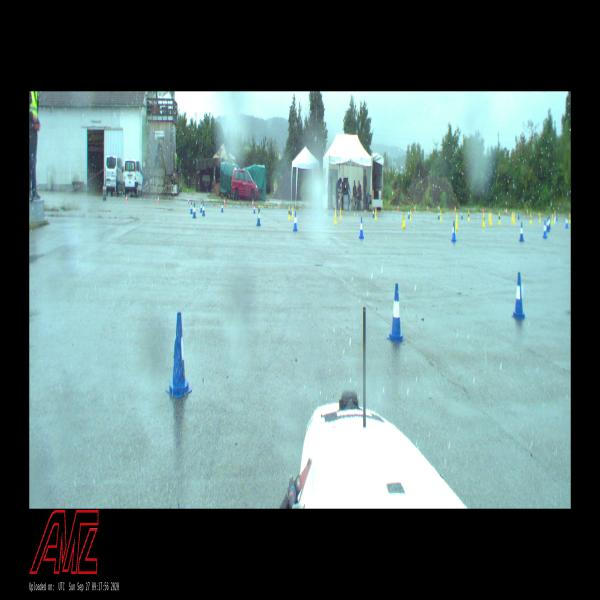blue_cone: (166, 311, 192, 399), (387, 283, 405, 344), (511, 272, 526, 320), (518, 222, 524, 242), (542, 220, 548, 239), (359, 216, 364, 238), (293, 211, 298, 232), (256, 208, 261, 226), (452, 220, 456, 242), (192, 202, 196, 219), (546, 216, 550, 232), (565, 214, 569, 229), (202, 202, 205, 216), (190, 201, 193, 214), (200, 200, 203, 213), (437, 208, 440, 220), (253, 203, 256, 214), (372, 207, 375, 218), (549, 214, 551, 230), (517, 210, 520, 220), (407, 209, 410, 219), (336, 206, 338, 217), (221, 202, 223, 212), (461, 210, 463, 220)
orange_cone: (157, 196, 160, 204), (505, 206, 508, 214), (224, 198, 226, 206), (414, 204, 416, 212), (397, 204, 399, 212), (278, 200, 280, 208), (252, 199, 254, 207), (126, 194, 128, 202), (482, 207, 484, 214), (427, 205, 429, 212), (188, 196, 189, 205), (455, 206, 456, 214)
yellow_cone: (402, 211, 406, 229), (334, 209, 338, 225), (287, 206, 291, 221), (455, 213, 458, 230), (482, 212, 485, 228), (489, 213, 492, 225), (551, 213, 554, 225), (568, 213, 571, 224), (498, 212, 500, 225), (258, 204, 260, 217), (468, 209, 470, 221), (530, 212, 532, 224), (410, 209, 412, 221), (440, 210, 442, 222), (340, 208, 342, 219), (292, 206, 294, 217), (513, 213, 515, 224), (375, 209, 377, 220), (539, 212, 541, 222), (511, 211, 513, 221), (488, 211, 490, 221)
